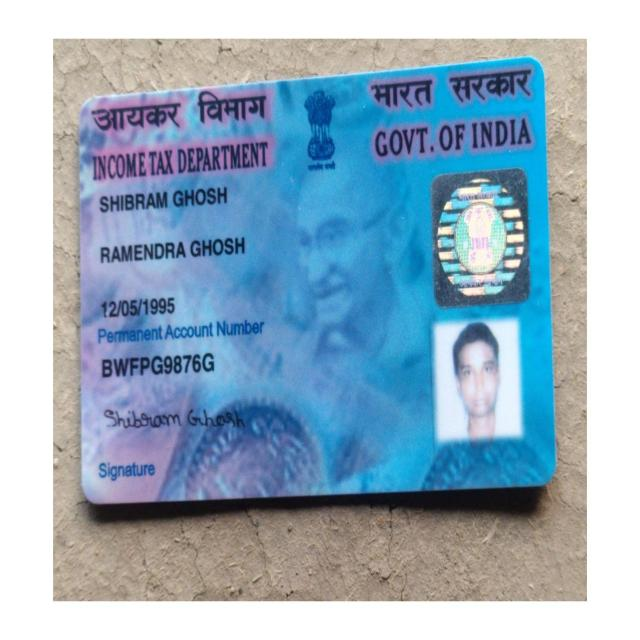pan_card: (83, 58, 550, 504)
